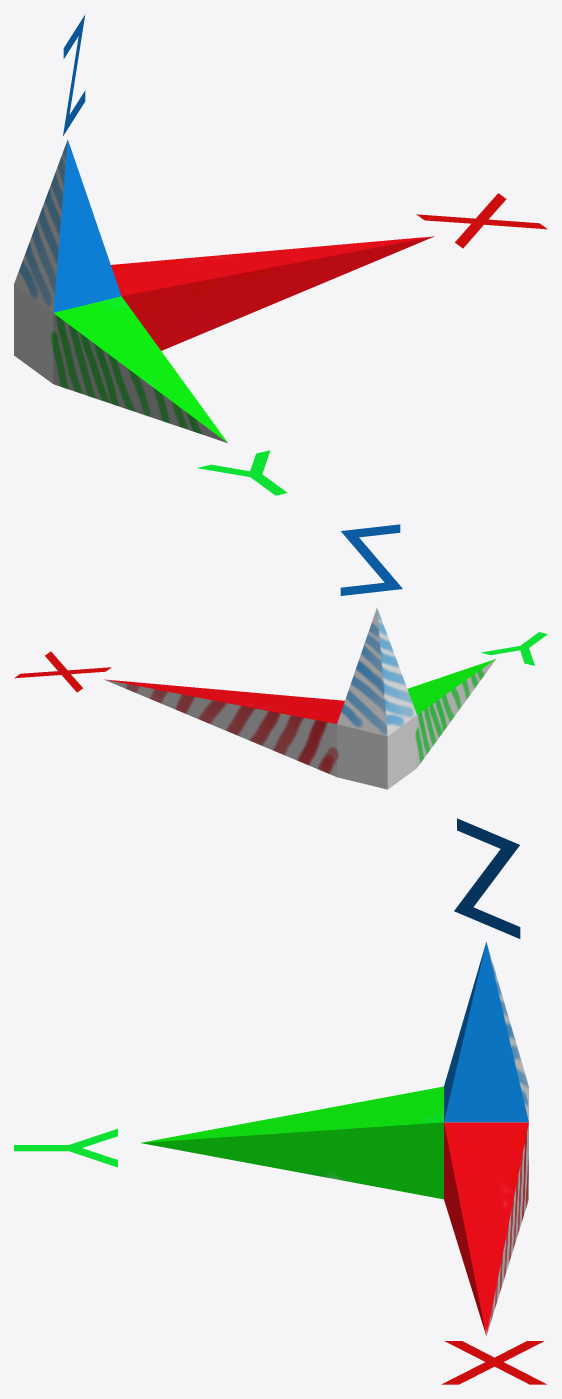
The model's file is compass.glb.
The picture shows the model from 3 angles, top to bottom: view 1: azimuth 30°, elevation 25°; view 2: azimuth 150°, elevation 25°; view 3: azimuth 270°, elevation 25°; orthographic projection. The views are drawn at different scales.
Visible parts, largest first — view 1: Cube, Text, Text.001, Text.002; view 2: Cube, Text.002, Text, Text.001; view 3: Cube, Text.002, Text, Text.001.
Boxes of the visible parts, left/top/right/bottom form: Cube: left=14, top=139, right=434, bottom=442; Text: left=416, top=193, right=547, bottom=248; Text.001: left=197, top=450, right=287, bottom=495; Text.002: left=63, top=14, right=85, bottom=135; Cube: left=104, top=607, right=495, bottom=789; Text.002: left=340, top=524, right=402, bottom=595; Text: left=14, top=651, right=111, bottom=692; Text.001: left=481, top=632, right=547, bottom=665; Cube: left=141, top=942, right=528, bottom=1335; Text.002: left=454, top=818, right=520, bottom=938; Text: left=441, top=1341, right=546, bottom=1384; Text.001: left=14, top=1128, right=117, bottom=1167.
Size of the model in its own units: 0.5922 by 0.3705 by 0.5066.
4 materials, 2 textured.
